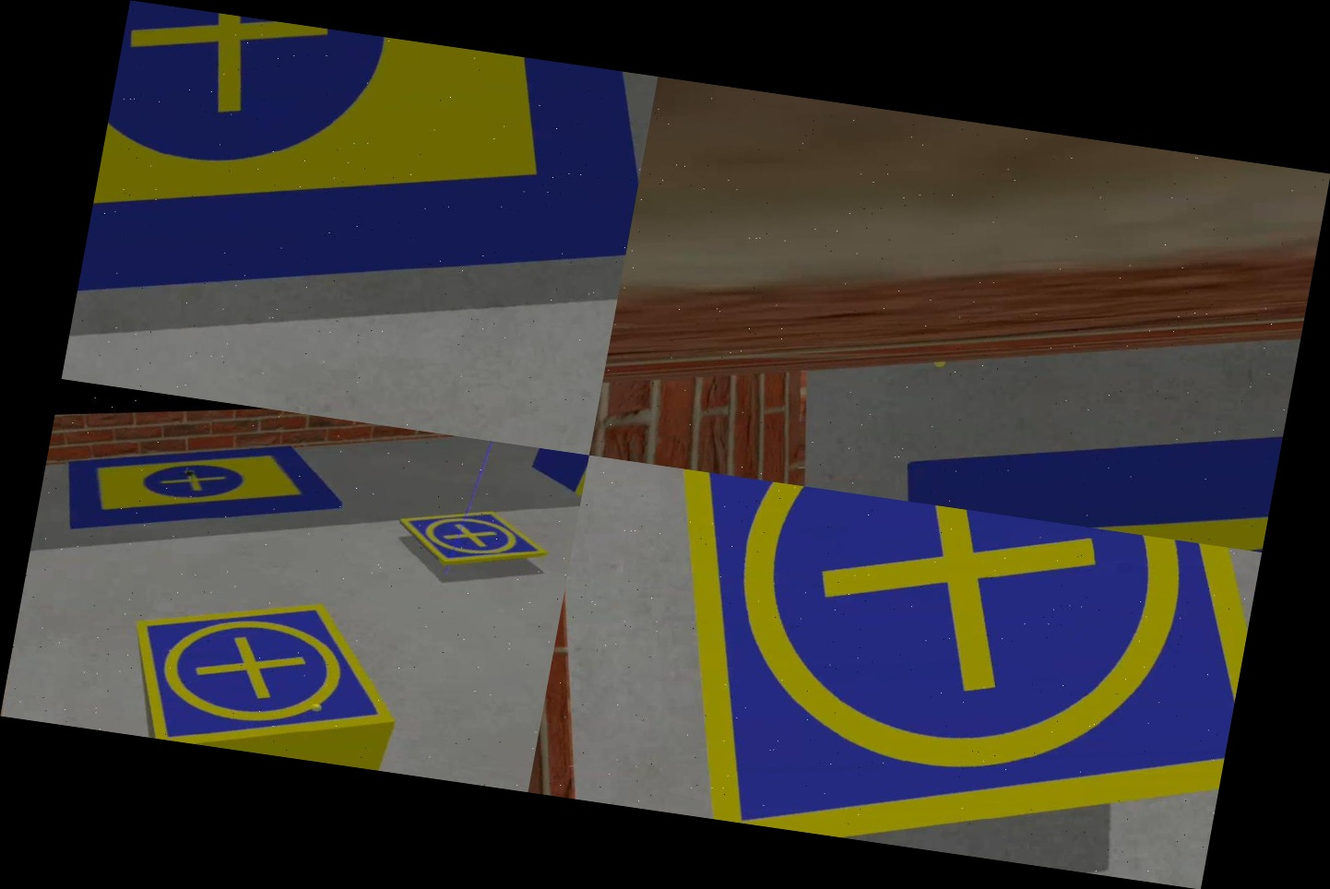large_base: (69, 0, 658, 411), (890, 316, 1294, 552), (53, 405, 362, 565)
small_base: (587, 464, 1261, 889), (113, 566, 420, 772), (392, 489, 554, 587)
